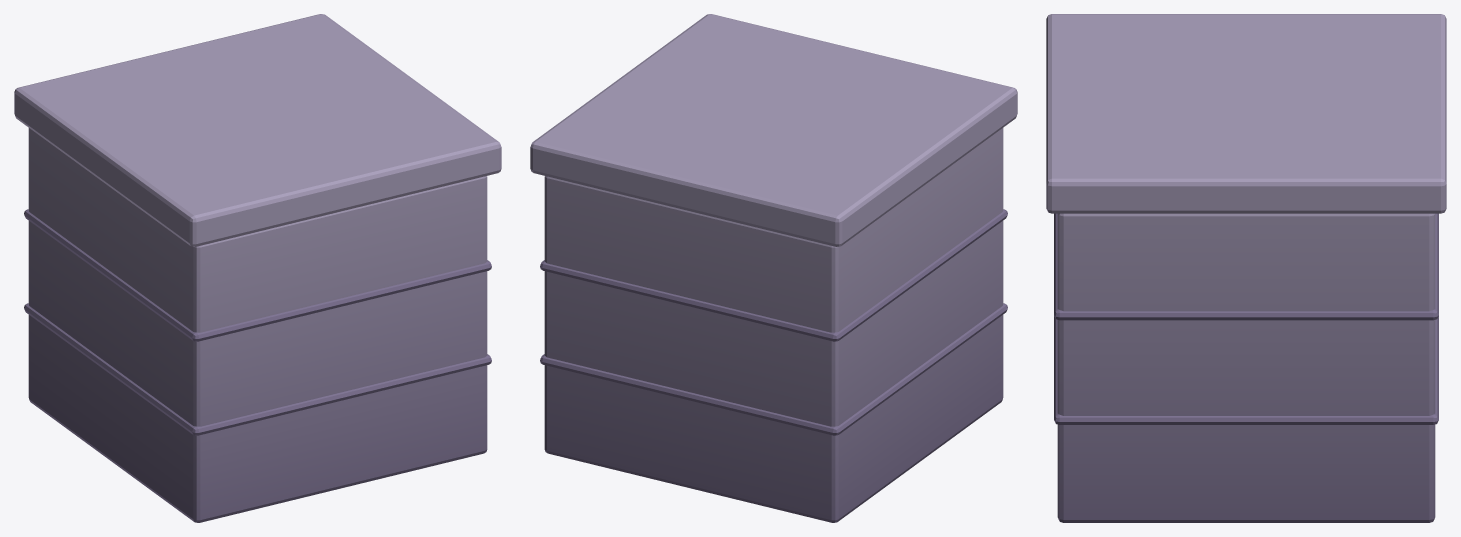
The model's file is wall.glb.
3 renders of one model, left to right at view 1: azimuth 30°, elevation 25°; view 2: azimuth 150°, elevation 25°; view 3: azimuth 270°, elevation 25°, orthographic. The views are drawn at different scales.
Parts seen in each view (by area): view 1: Wall; view 2: Wall; view 3: Wall.
Boxes of the visible parts, bbox=[...] form: Wall: bbox=[14, 14, 501, 522]; Wall: bbox=[530, 14, 1017, 522]; Wall: bbox=[1046, 14, 1446, 522].
Size of the model in its own units: 1.04 by 1 by 1.04.
